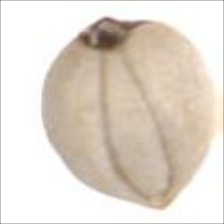L5: (97, 48, 177, 197), (74, 15, 154, 51), (110, 190, 190, 212)
L6: (40, 15, 219, 213)
